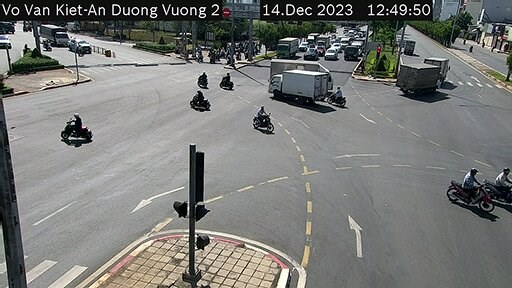motorbike: (483, 160, 512, 203), (455, 167, 485, 207), (246, 102, 273, 133), (59, 112, 89, 139), (186, 90, 203, 114), (331, 83, 344, 112), (223, 68, 237, 89), (197, 71, 210, 89)
truck: (268, 63, 328, 107), (390, 64, 450, 96), (276, 37, 303, 61)
